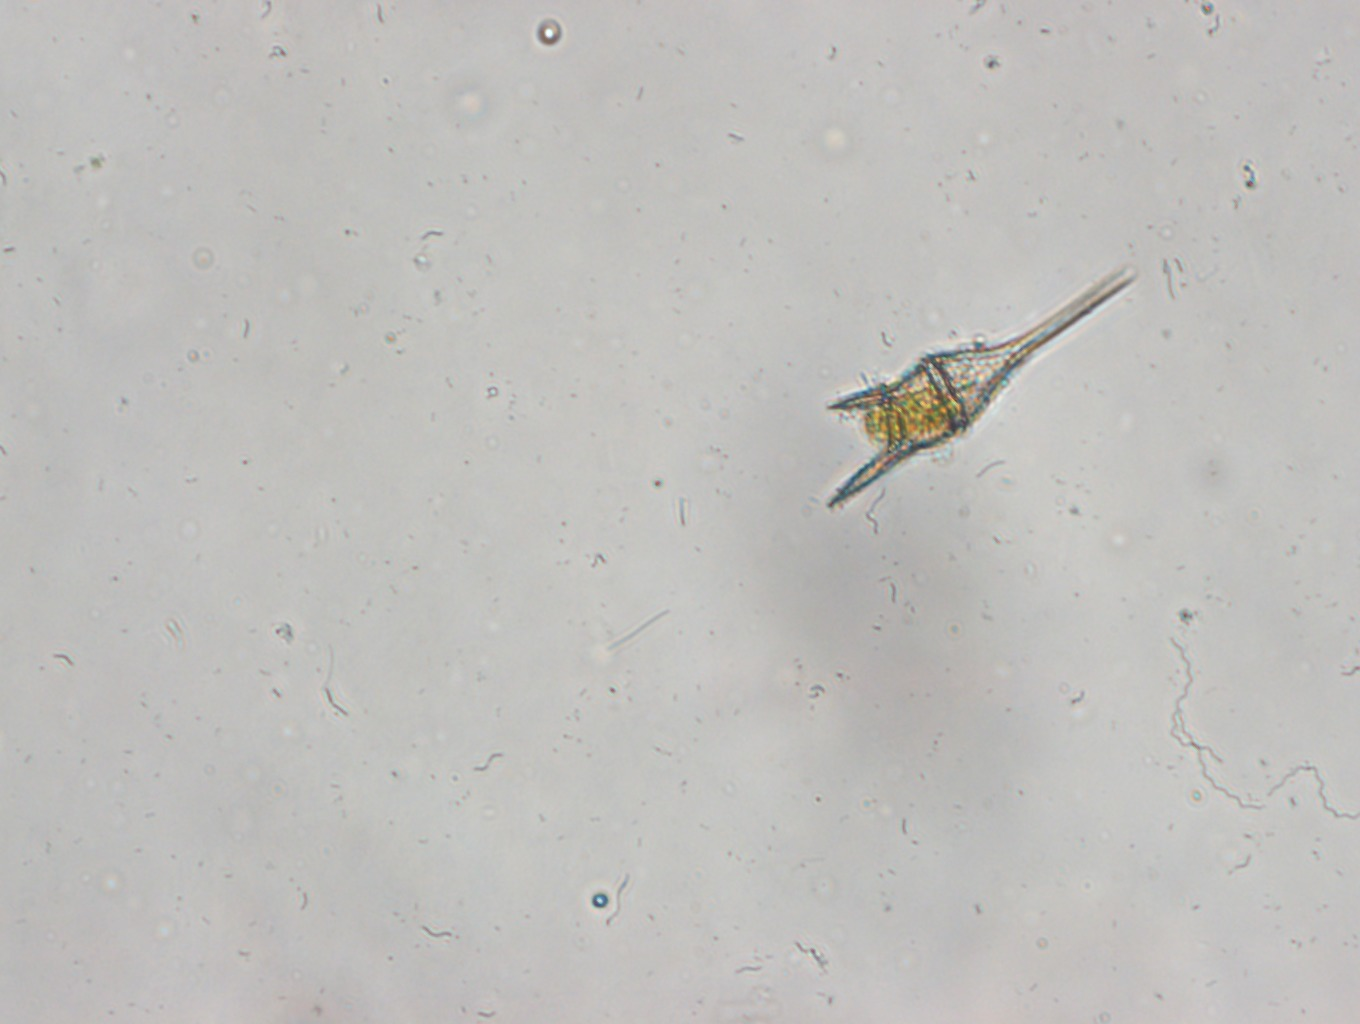ceratium furca: (796, 256, 1143, 513)
